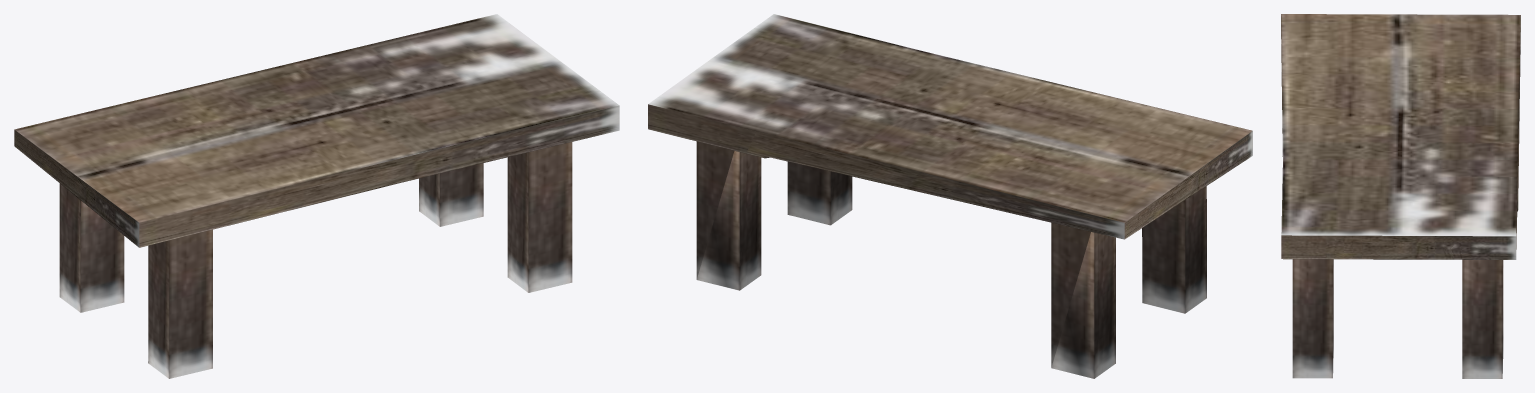
Rendered from Chair01.FBX.
3 views of the same model, side by side, from view 1: azimuth 30°, elevation 25°; view 2: azimuth 150°, elevation 25°; view 3: azimuth 270°, elevation 25° (orthographic). The views are drawn at different scales.
Parts seen in each view (by area): view 1: Object47, Object48, Object49, Object46, Object44, Object45, Object43; view 2: Object47, Object48, Object49, Object45, Object43, Object44, Object46; view 3: Object48, Object47, Object49, Object46, Object43.
Boxes of the visible parts, box(x1,y1,x2,y2) form: Object47: box(14, 117, 461, 247); Object48: box(324, 14, 619, 182); Object49: box(16, 40, 386, 129); Object46: box(507, 142, 572, 292); Object44: box(148, 229, 212, 378); Object45: box(59, 183, 124, 312); Object43: box(419, 163, 483, 226); Object47: box(929, 52, 1252, 238); Object48: box(648, 14, 944, 158); Object49: box(747, 116, 1124, 239); Object45: box(1051, 222, 1115, 378); Object43: box(696, 141, 761, 290); Object44: box(1142, 186, 1206, 313); Object46: box(787, 161, 852, 225); Object48: box(1281, 128, 1517, 259); Object47: box(1281, 14, 1520, 162); Object49: box(1398, 15, 1520, 211); Object46: box(1292, 259, 1333, 378); Object43: box(1462, 259, 1503, 378).
Size of the model in its own units: 30.92 by 10.5 by 14.09.
2 materials, 2 textured.
